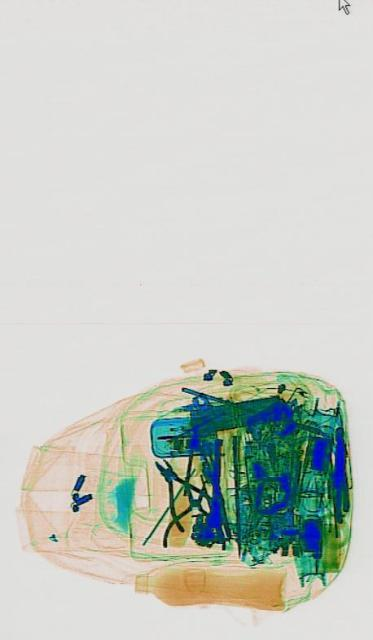Pliers: (144, 433, 211, 539), (162, 473, 227, 557), (327, 426, 350, 526)
